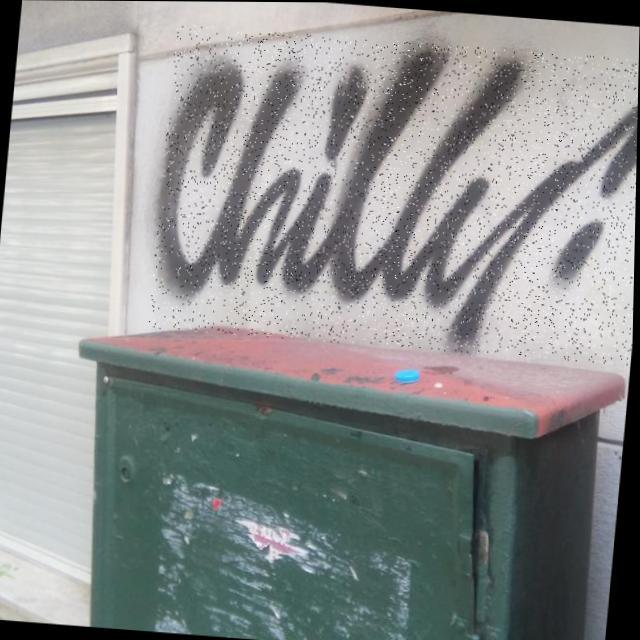-: (148, 23, 640, 364)
